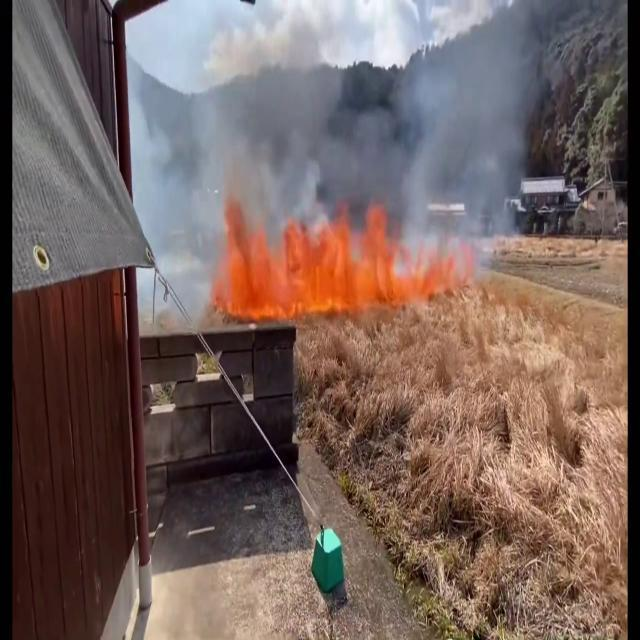Fire: (208, 192, 410, 318)
Smoke: (154, 2, 412, 222), (400, 0, 592, 289)
